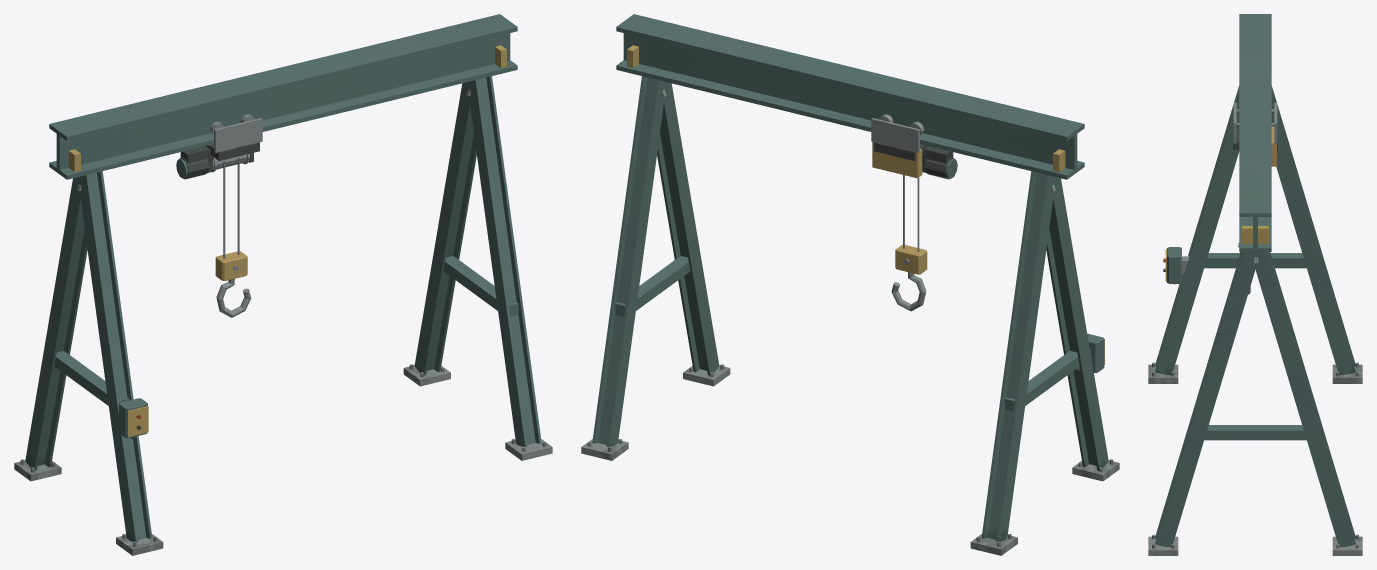
File: industry_gantry_crane_fixed.glb
3 renders of one model, left to right at view 1: azimuth 30°, elevation 25°; view 2: azimuth 150°, elevation 25°; view 3: azimuth 270°, elevation 25°, orthographic. The views are drawn at different scales.
Parts seen in each view (by area): view 1: GantryCrane; view 2: GantryCrane; view 3: GantryCrane.
Part boxes in pixels (<box>): GantryCrane: <box>14,14,552,555</box>; GantryCrane: <box>581,14,1119,555</box>; GantryCrane: <box>1148,14,1362,555</box>.
Size of what is drawn, in the model's own units: 4.4 by 3.6 by 2.
1 material, 1 textured.
